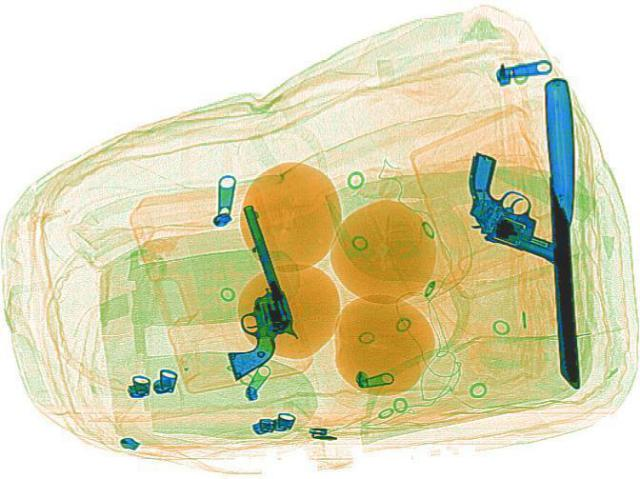Gun: (176, 204, 310, 377), (426, 149, 604, 260)
Knife: (541, 77, 583, 388)
